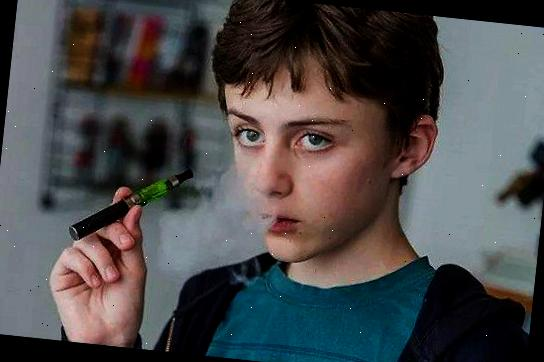smoke: (156, 192, 259, 274)
